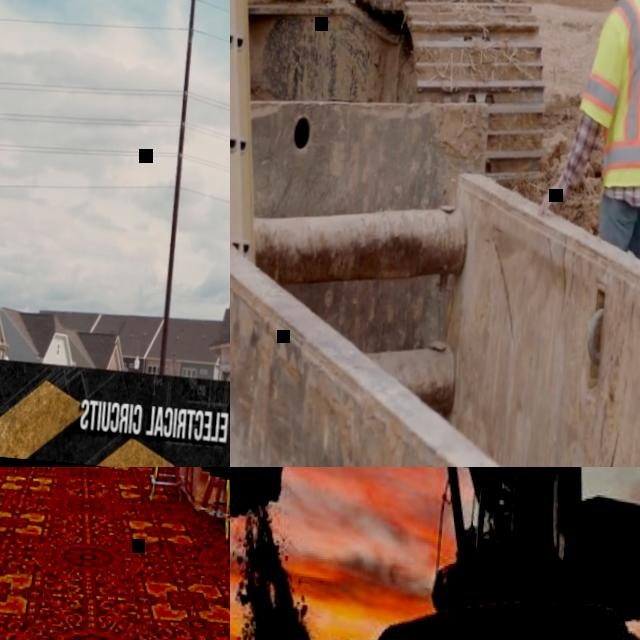Person: (533, 0, 640, 258)
Safety Vest: (575, 0, 640, 176)
machinery: (230, 467, 640, 640), (230, 0, 560, 197)
